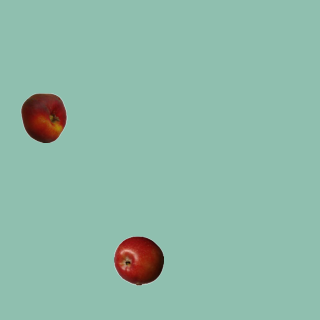Apple Braeburn: (113, 235, 163, 285)
Nectarine Flat: (18, 92, 68, 142)
